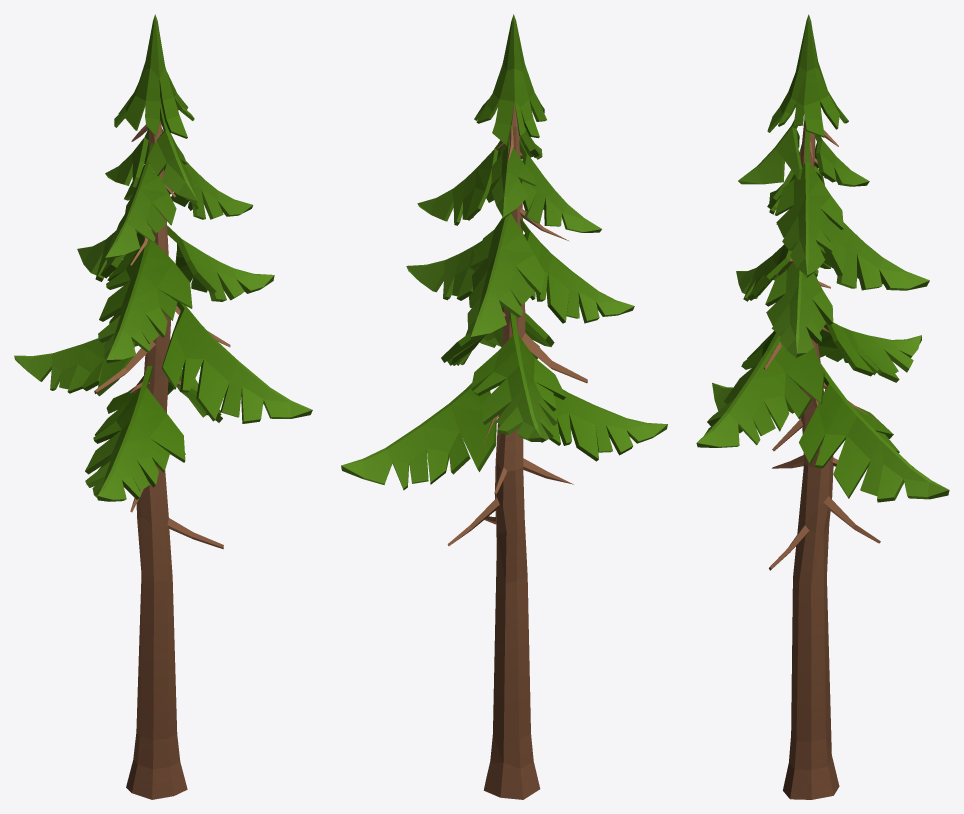
The model's file is Tree_Pine_03.fbx.
3 renders of one model, left to right at view 1: azimuth 30°, elevation 25°; view 2: azimuth 150°, elevation 25°; view 3: azimuth 270°, elevation 25°, orthographic.
Parts seen in each view (by area): view 1: Tree_Pine_03; view 2: Tree_Pine_03; view 3: Tree_Pine_03.
Part boxes in pixels (<box>): Tree_Pine_03: <box>14,14,312,799</box>; Tree_Pine_03: <box>341,14,667,799</box>; Tree_Pine_03: <box>696,14,949,799</box>.
Bounding box in the file's own units: 533 × 1798 × 532.
